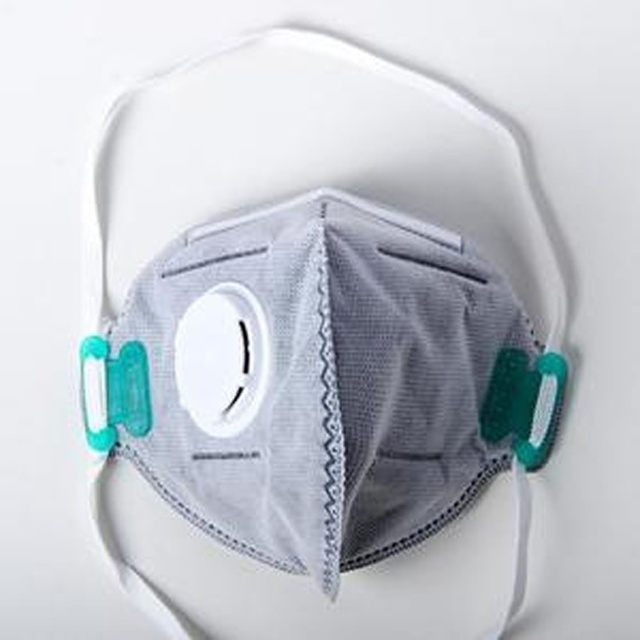mask: (77, 19, 581, 640)
